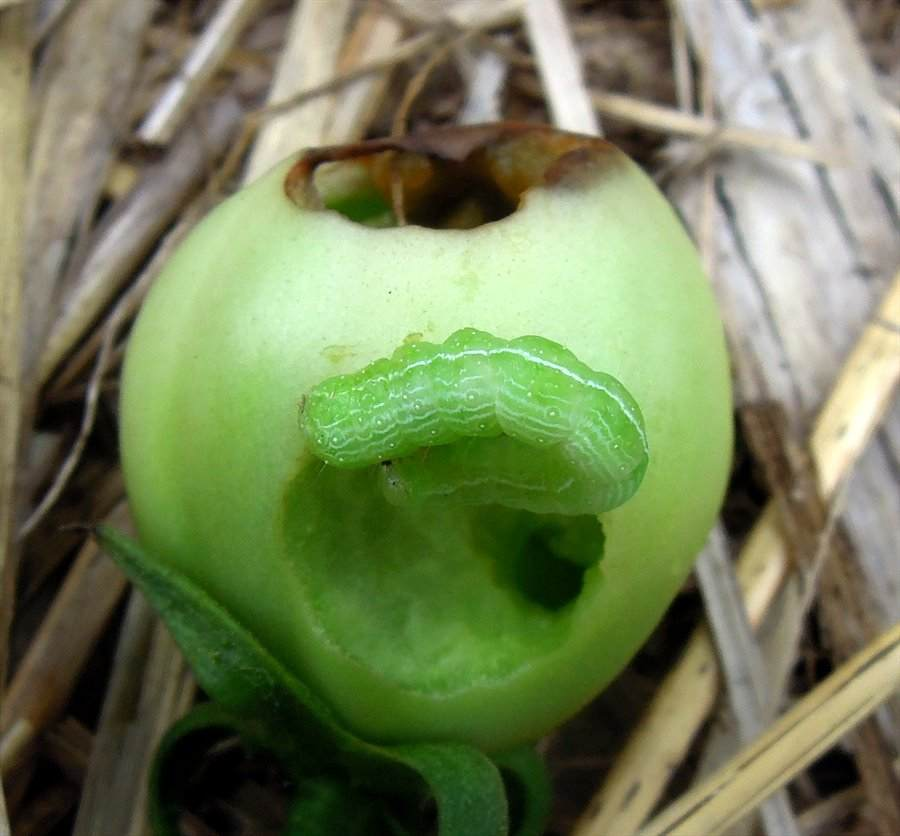Armyworm: (274, 317, 666, 540)
